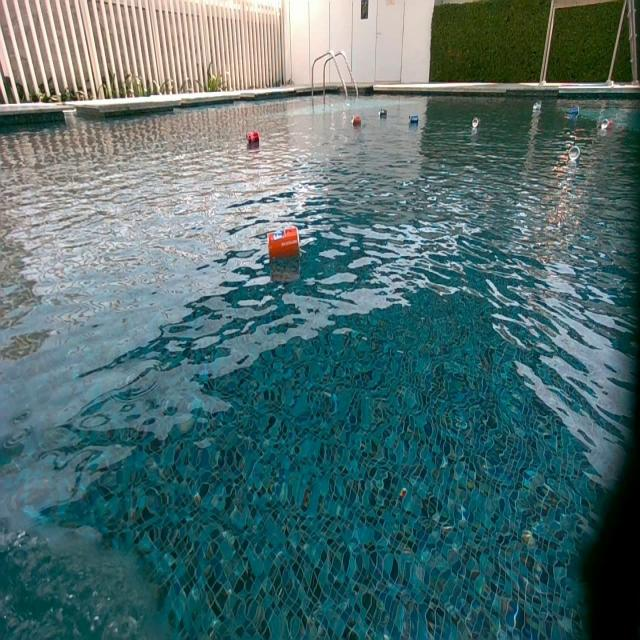Cans: (269, 225, 299, 262), (247, 131, 260, 147), (408, 114, 421, 124), (378, 107, 388, 120), (352, 114, 361, 128), (470, 116, 478, 127)
